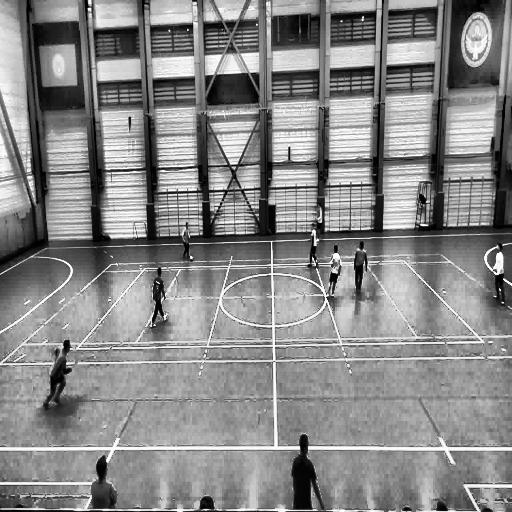ball: (189, 254, 194, 264)
player: (291, 434, 325, 508), (45, 339, 72, 410), (490, 240, 506, 304), (151, 267, 168, 326), (327, 245, 341, 297), (354, 241, 367, 294), (306, 222, 319, 267), (314, 200, 324, 246), (181, 222, 191, 259)
